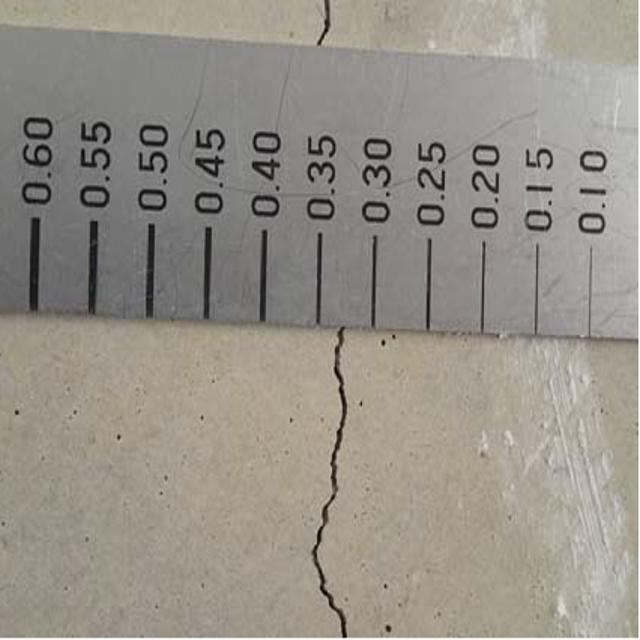crack: (294, 323, 369, 640), (300, 4, 354, 49)
